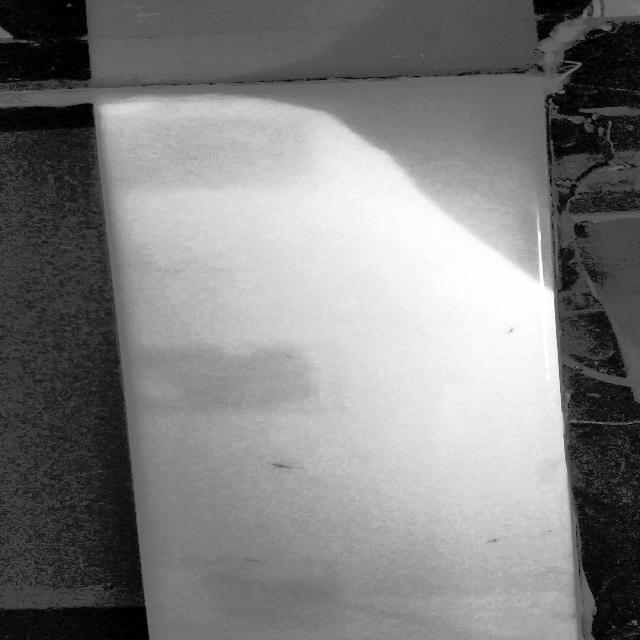shrimp: (254, 456, 302, 479)
